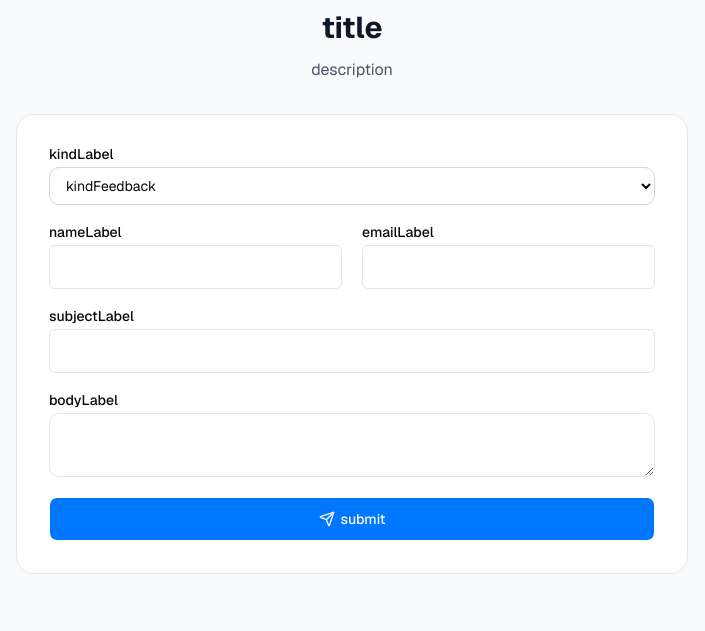
Test: ContactForm › shows an error for an invalid email
Type "not-an-email" into the field labelled "emailLabel" at (508, 267), box [362,245,655,289]
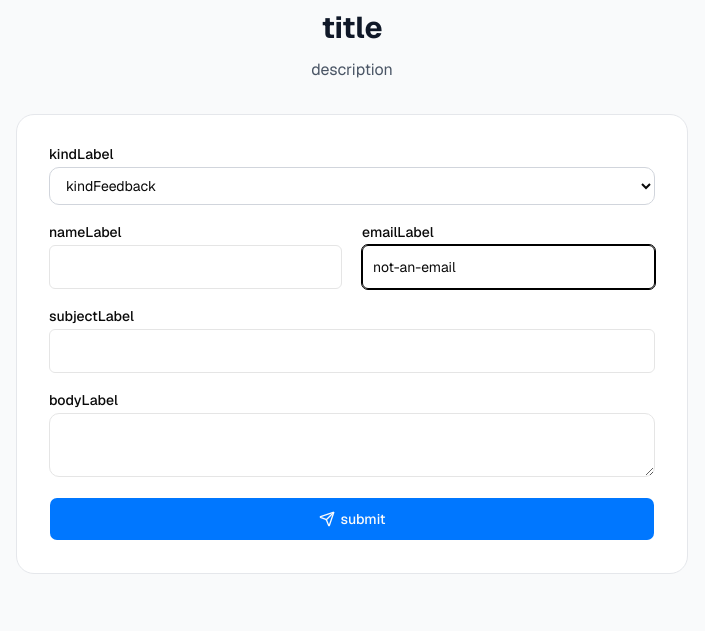
Type "Hello" into the text box labelled "bodyLabel" at (352, 445), box [49,413,655,477]
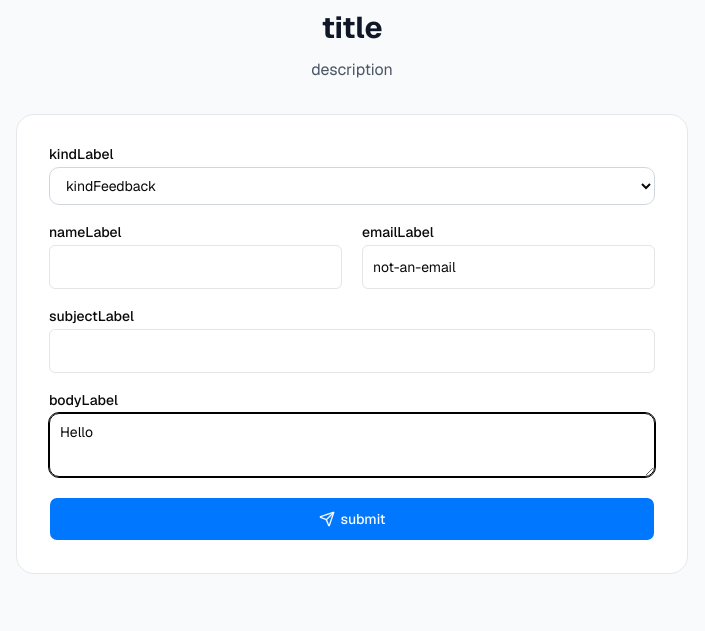
Click the button "submit" at (352, 519), box [49,497,655,541]
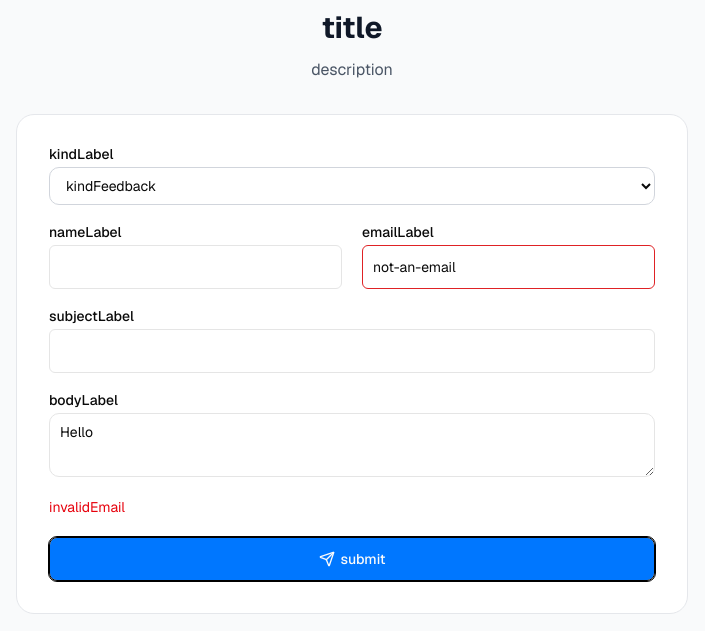
Expected: the message reads "invalidEmail", [49,498,125,516]
